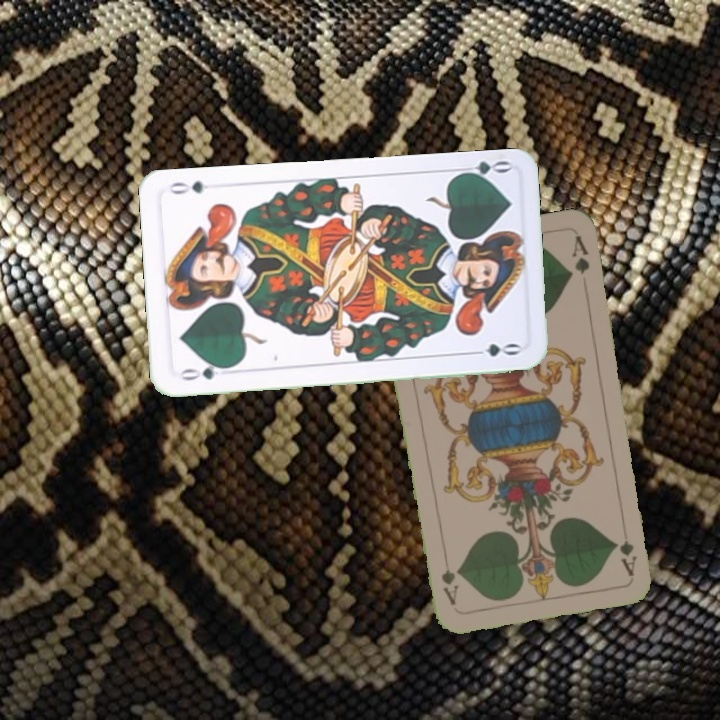GA: (616, 519, 639, 578)
GO: (452, 157, 512, 184), (174, 359, 233, 383)
